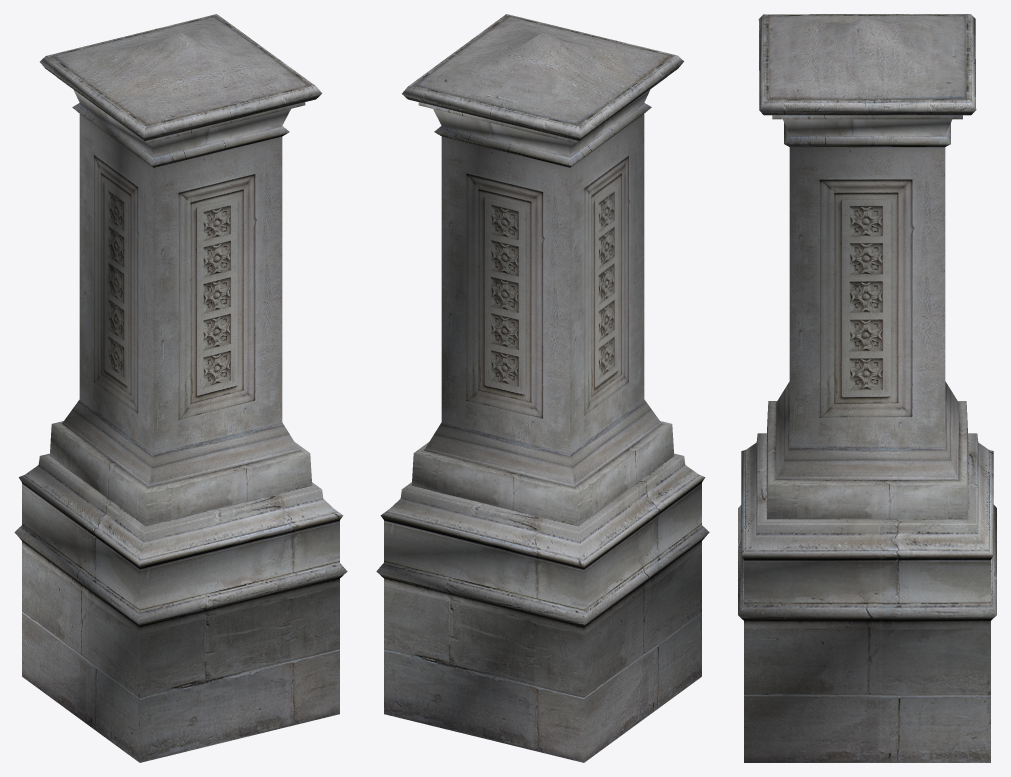
File: StoneFence_Post_LOD1.fbx
3 views of the same model, side by side, from view 1: azimuth 30°, elevation 25°; view 2: azimuth 150°, elevation 25°; view 3: azimuth 270°, elevation 25° (orthographic). The views are drawn at different scales.
Visible parts, largest first — view 1: StoneFence_Post_LOD1; view 2: StoneFence_Post_LOD1; view 3: StoneFence_Post_LOD1.
Boxes of the visible parts, bbox=[...] form: StoneFence_Post_LOD1: bbox=[14, 14, 347, 762]; StoneFence_Post_LOD1: bbox=[376, 14, 709, 762]; StoneFence_Post_LOD1: bbox=[738, 14, 996, 762].
Bounding box in the file's own units: 78.38 × 236 × 79.95.
